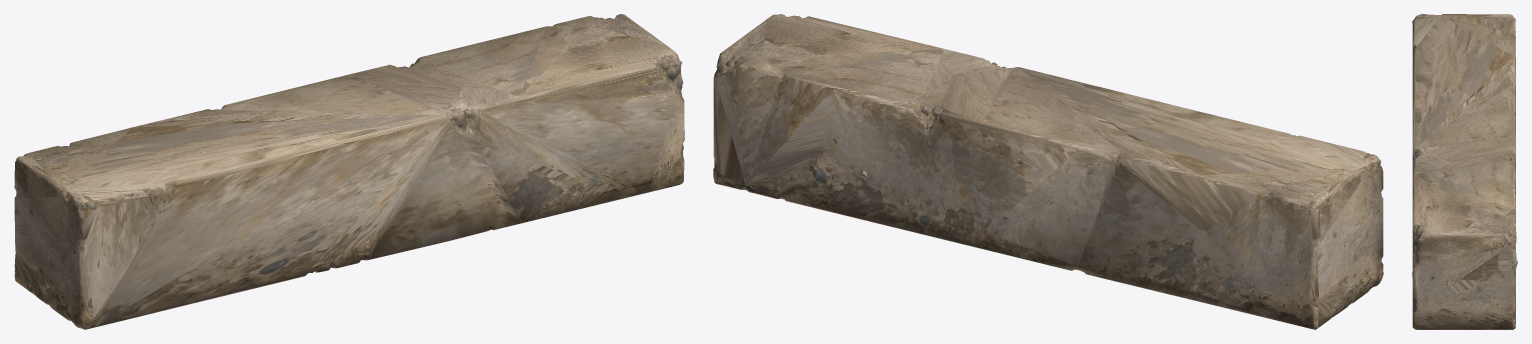
Rendered from shallow-irrigation-bank.glb.
3 renders of one model, left to right at view 1: azimuth 30°, elevation 25°; view 2: azimuth 150°, elevation 25°; view 3: azimuth 270°, elevation 25°, orthographic. The views are drawn at different scales.
Visible parts, largest first — view 1: shallow-irrigation-bank; view 2: shallow-irrigation-bank; view 3: shallow-irrigation-bank.
Part boxes in pixels (x1,y1,x2,y2): shallow-irrigation-bank: (14,14,684,329); shallow-irrigation-bank: (713,14,1383,329); shallow-irrigation-bank: (1412,14,1517,329).
Size of the model in its own units: 2 by 0.4006 by 0.4013.
1 material, 1 textured.
